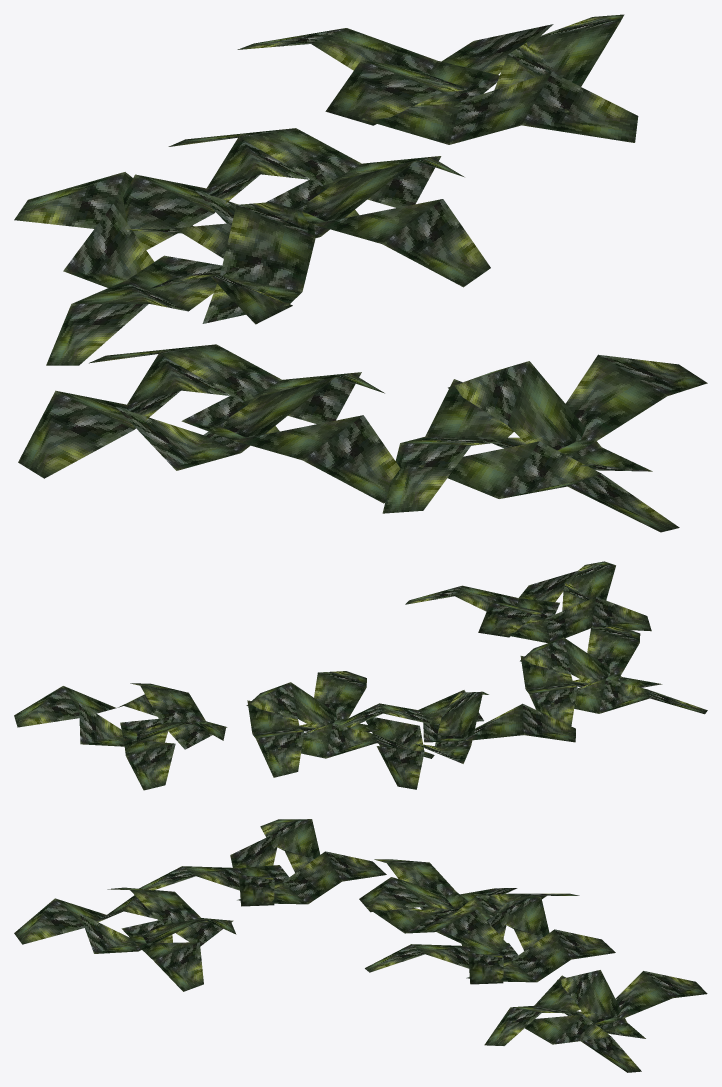
Rendered from Grass02.obj.
3 views of the same model, one above another, from view 1: azimuth 30°, elevation 25°; view 2: azimuth 150°, elevation 25°; view 3: azimuth 270°, elevation 25° (orthographic). The views are drawn at different scales.
Parts seen in each view (by area): view 1: Mesh_0; view 2: Mesh_0; view 3: Mesh_0.
Boxes of the visible parts, left/top/right/bottom form: Mesh_0: left=14, top=14, right=707, bottom=532; Mesh_0: left=14, top=561, right=707, bottom=790; Mesh_0: left=14, top=819, right=707, bottom=1072.
Bounding box in the file's own units: 5 × 0.2892 × 5.78.
Materials: 1 (1 with a texture image).
